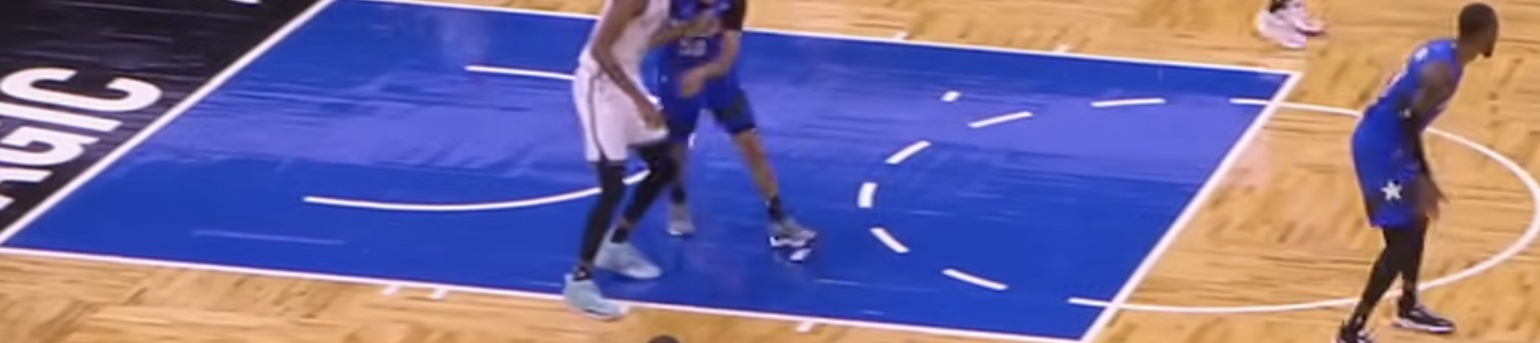endLine: (1, 1, 329, 240)
freeThrow: (1083, 72, 1299, 343)
lane: (1, 242, 1082, 343), (390, 1, 1298, 72)
